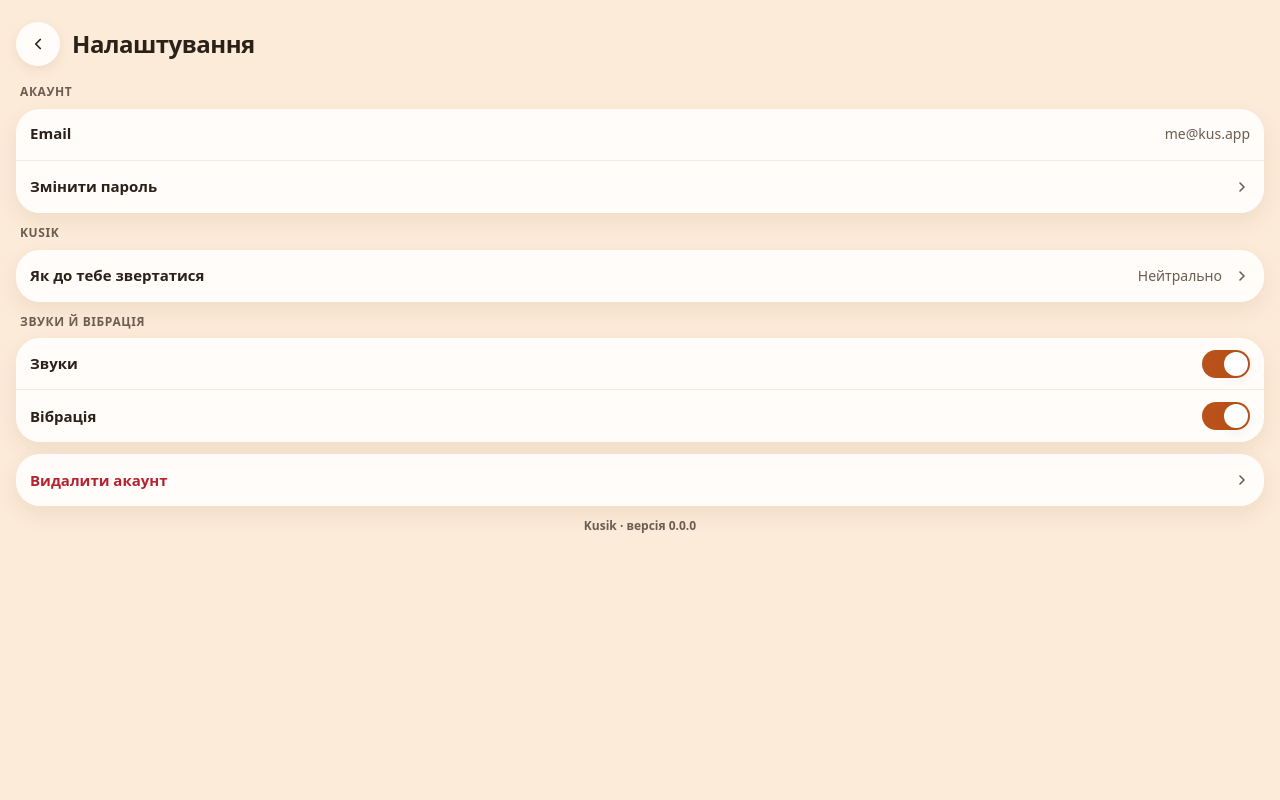
SettingsPage › opens the sheet with the three cards from the row
The width and height of the screenshot is (1280, 800).
Click the button "Як до тебе звертатися Нейтрально" at (117, 275), box [16,250,1264,302]
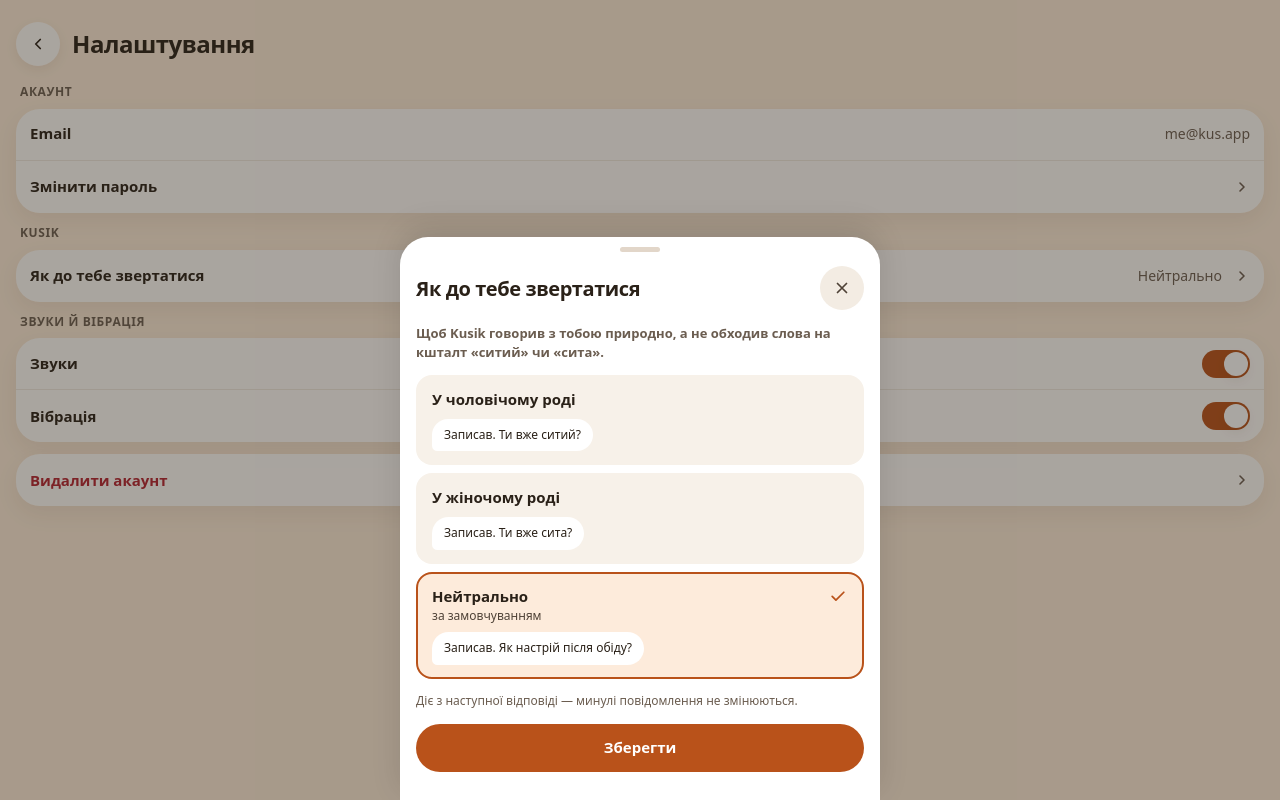
Expected: the number of radio buttons is 3, [416,375,864,465]; [416,473,864,564]; [416,572,864,679]
